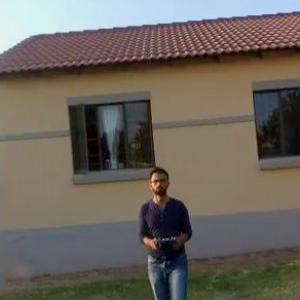follow: (137, 162, 196, 299)
